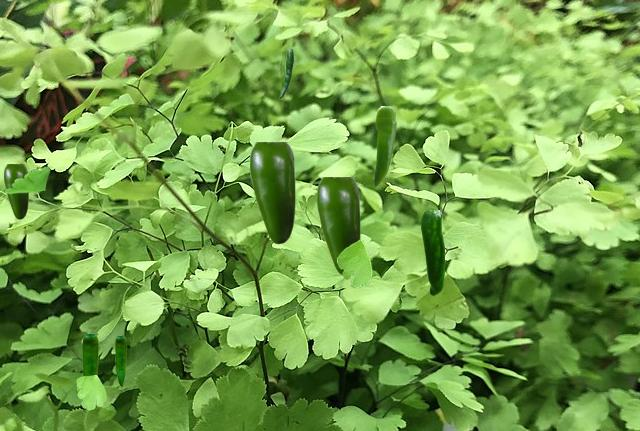green_chili: (250, 142, 294, 243), (317, 177, 359, 274), (421, 210, 443, 294), (374, 106, 395, 185), (4, 164, 27, 218), (279, 49, 292, 98), (82, 334, 97, 375), (115, 336, 125, 385)
